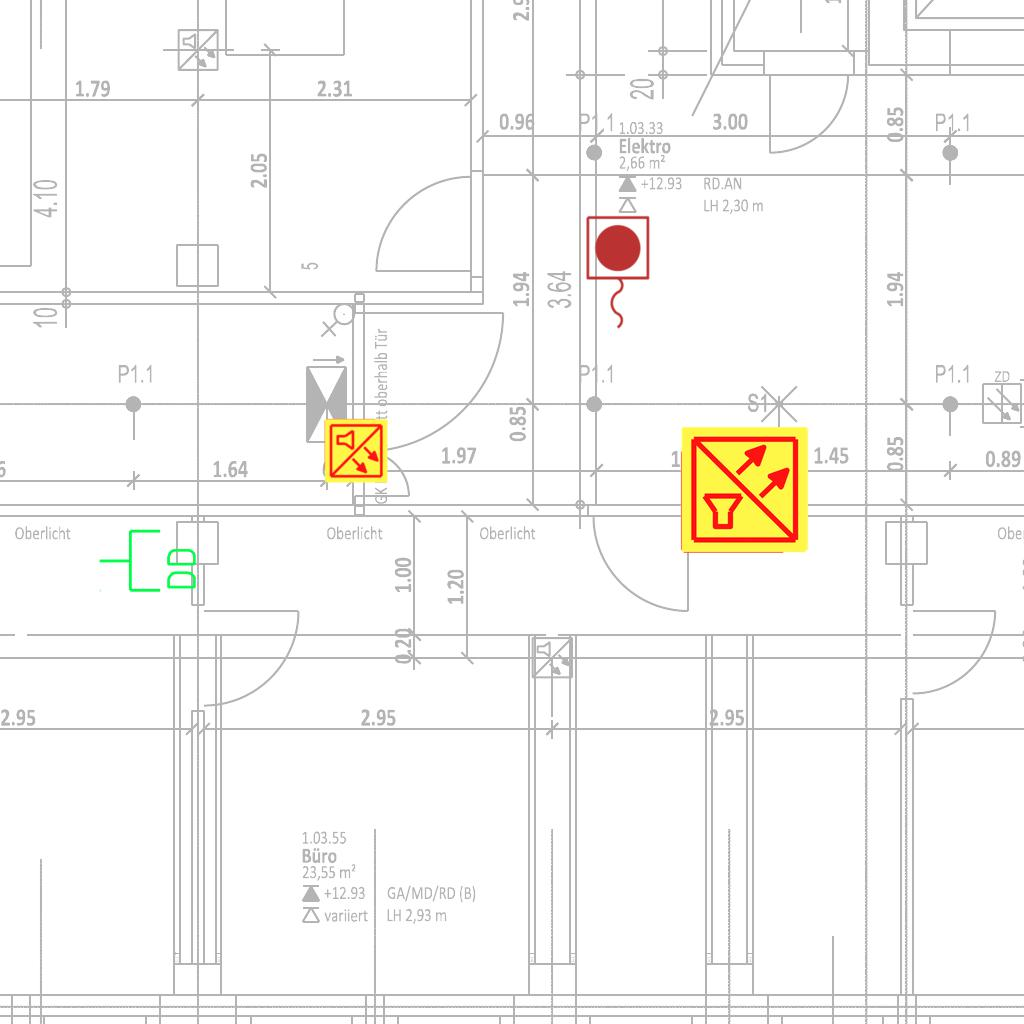Datenanschluss_zweifach: (97, 527, 200, 596)
OKW_Multisensormelder_(Kombination_optischer_Rauch-Kahlenmonoxid_Waerme-Melder): (679, 424, 811, 556), (323, 418, 389, 484)
Zugtaster: (581, 212, 653, 334)
